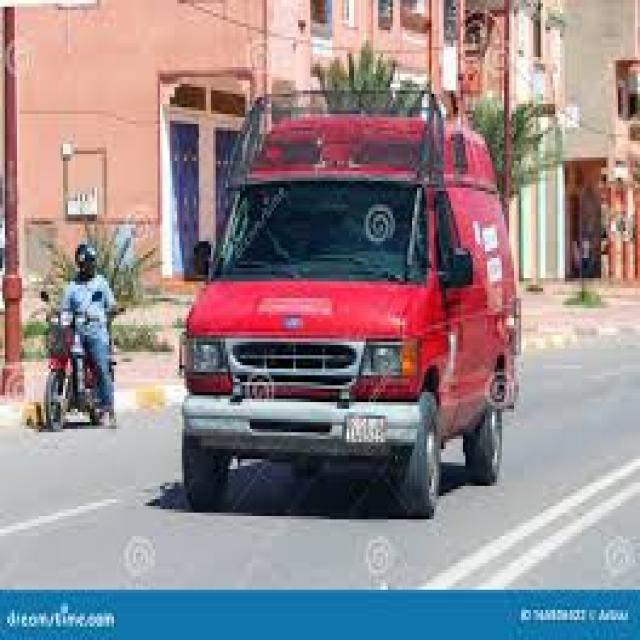ambulance: (175, 83, 526, 514)
